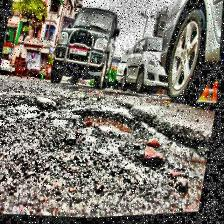pothole: (78, 100, 150, 150)
